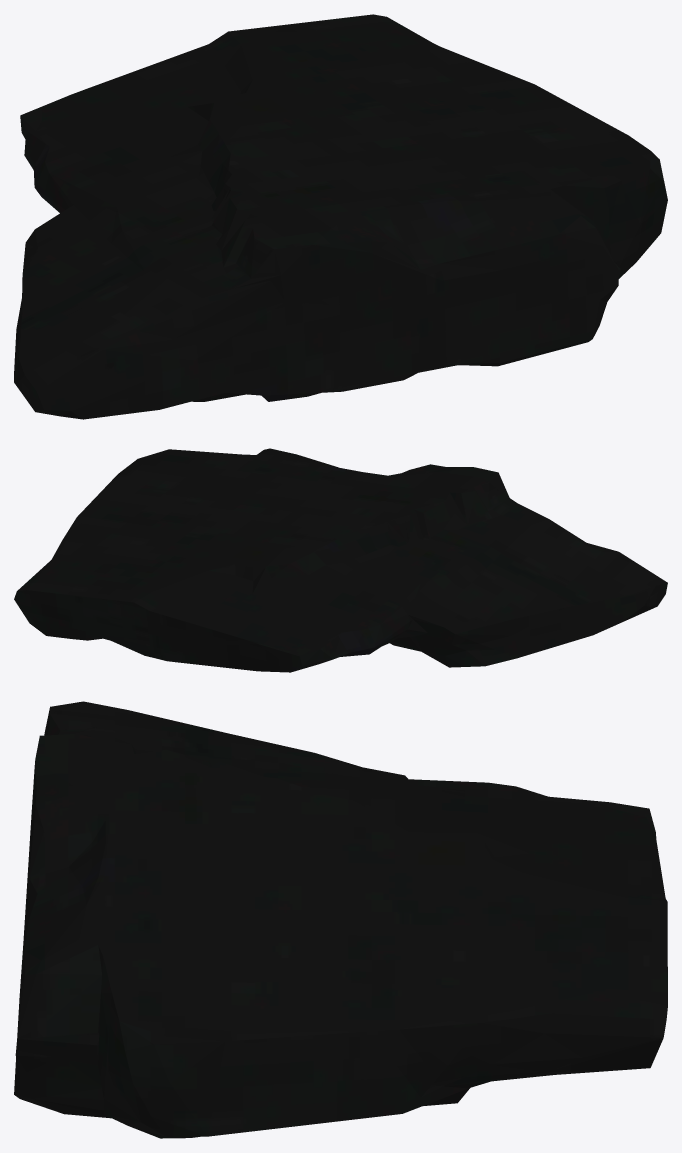
3 views of the same model, one above another, from view 1: azimuth 30°, elevation 25°; view 2: azimuth 150°, elevation 25°; view 3: azimuth 270°, elevation 25° (orthographic). The views are drawn at different scales.
Parts seen in each view (by area): view 1: SM_GF_Clifftop_02_LOD0; view 2: SM_GF_Clifftop_02_LOD0; view 3: SM_GF_Clifftop_02_LOD0.
Boxes of the visible parts, <box> form: SM_GF_Clifftop_02_LOD0: <box>14,14,667,419</box>; SM_GF_Clifftop_02_LOD0: <box>14,448,667,672</box>; SM_GF_Clifftop_02_LOD0: <box>14,701,667,1138</box>.
Size of the model in its own units: 5.44 by 1.33 by 3.93.
Materials: 1 (1 with a texture image).
